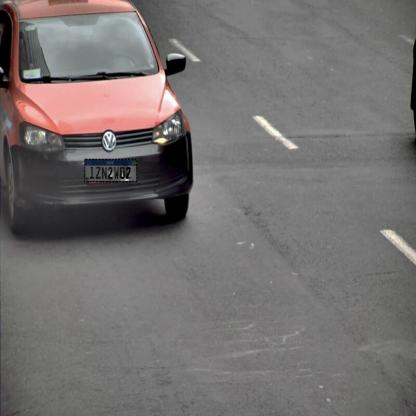PlacaM: (84, 159, 138, 182)
